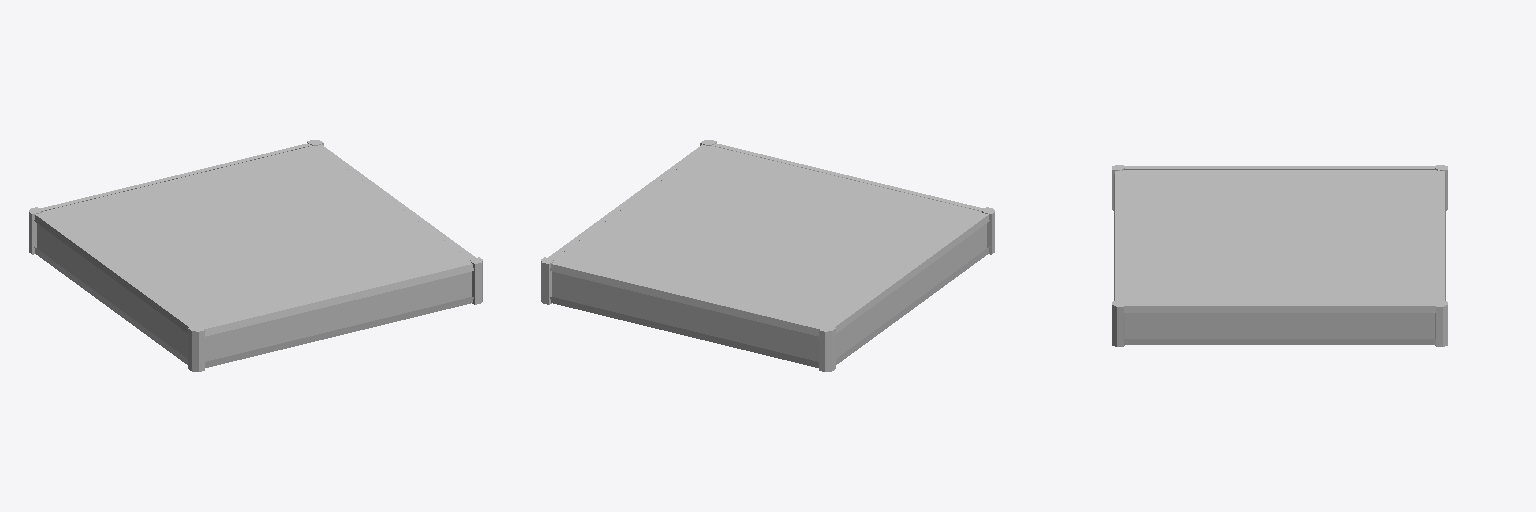
Rendered from stg600_obj_lightfloorB.obj.
3 renders of one model, left to right at view 1: azimuth 30°, elevation 25°; view 2: azimuth 150°, elevation 25°; view 3: azimuth 270°, elevation 25°, orthographic.
Visible parts, largest first — view 1: polygon0, polygon2, polygon1; view 2: polygon0, polygon2, polygon1; view 3: polygon0, polygon2, polygon1.
Part boxes in pixels (bbox=[...]): polygon0: bbox=[42, 146, 469, 326]; polygon2: bbox=[29, 140, 482, 371]; polygon1: bbox=[37, 224, 471, 361]; polygon0: bbox=[554, 146, 981, 326]; polygon2: bbox=[541, 140, 994, 371]; polygon1: bbox=[552, 224, 986, 361]; polygon0: bbox=[1122, 170, 1437, 302]; polygon2: bbox=[1112, 165, 1447, 346]; polygon1: bbox=[1125, 313, 1434, 338].
Bounding box in the file's own units: 40.56 × 5.4 × 40.56.